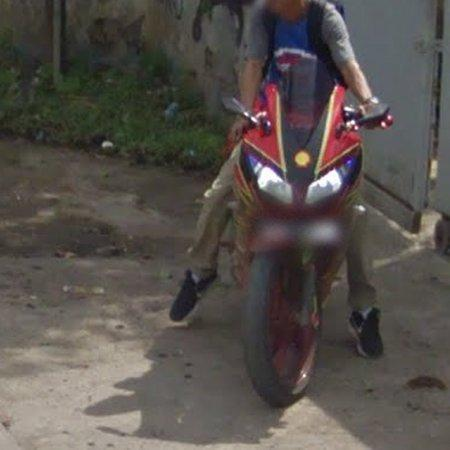motorcycles: (226, 49, 393, 406)
